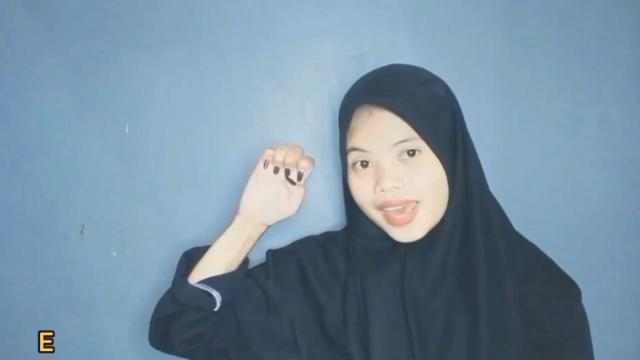E: (237, 142, 316, 236)
